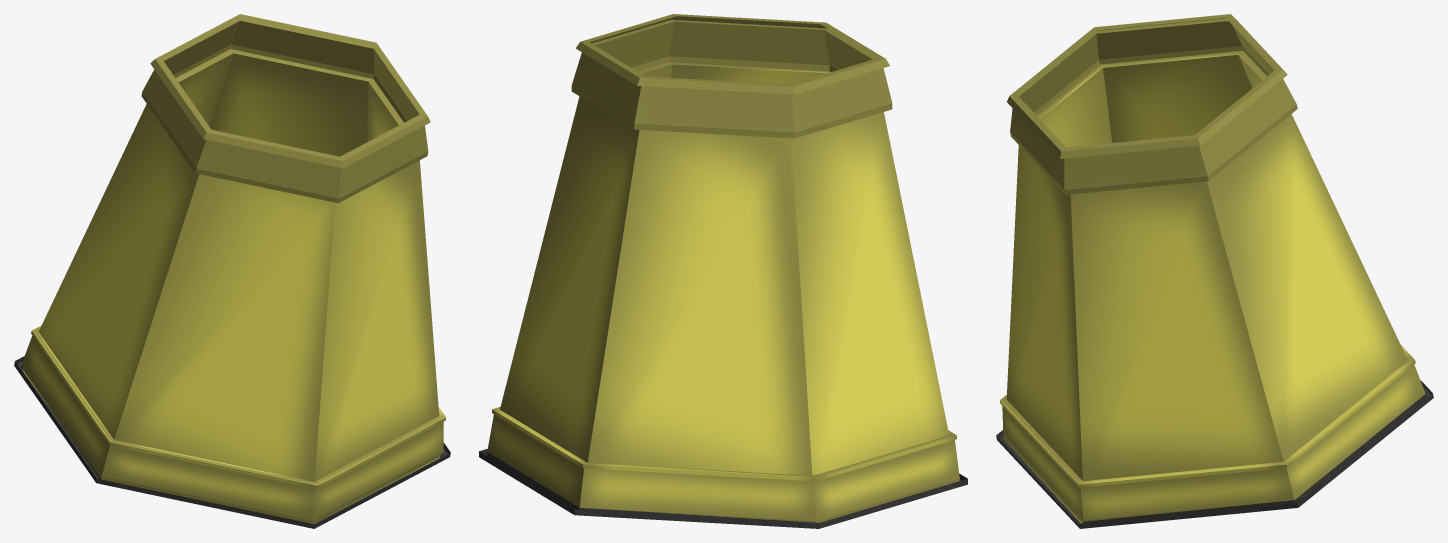
Rendered from Lighthouse-model-lamp-on.glb.
3 views of the same model, side by side, from view 1: azimuth 30°, elevation 25°; view 2: azimuth 150°, elevation 25°; view 3: azimuth 270°, elevation 25° (orthographic). The views are drawn at different scales.
Parts seen in each view (by area): view 1: lamp shade; view 2: lamp shade; view 3: lamp shade.
Boxes of the visible parts, left/top/right/bottom form: lamp shade: left=14, top=14, right=450, bottom=528; lamp shade: left=479, top=14, right=967, bottom=528; lamp shade: left=996, top=14, right=1433, bottom=528.
Size of the model in its own units: 4.54 by 4.88 by 4.78.
Materials: 1 (1 with a texture image).
